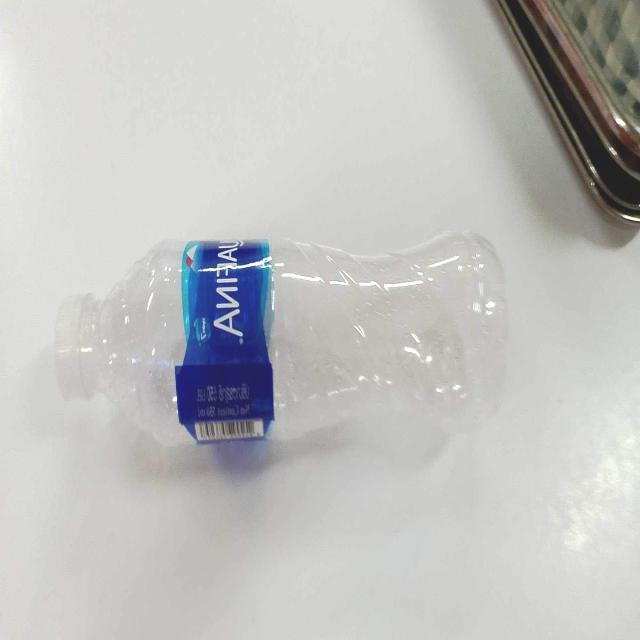General: (53, 236, 278, 448), (490, 0, 640, 228), (174, 237, 278, 445)
Infectious: (54, 228, 510, 448)
